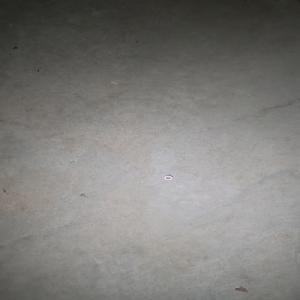Nut: (162, 174, 172, 180)
